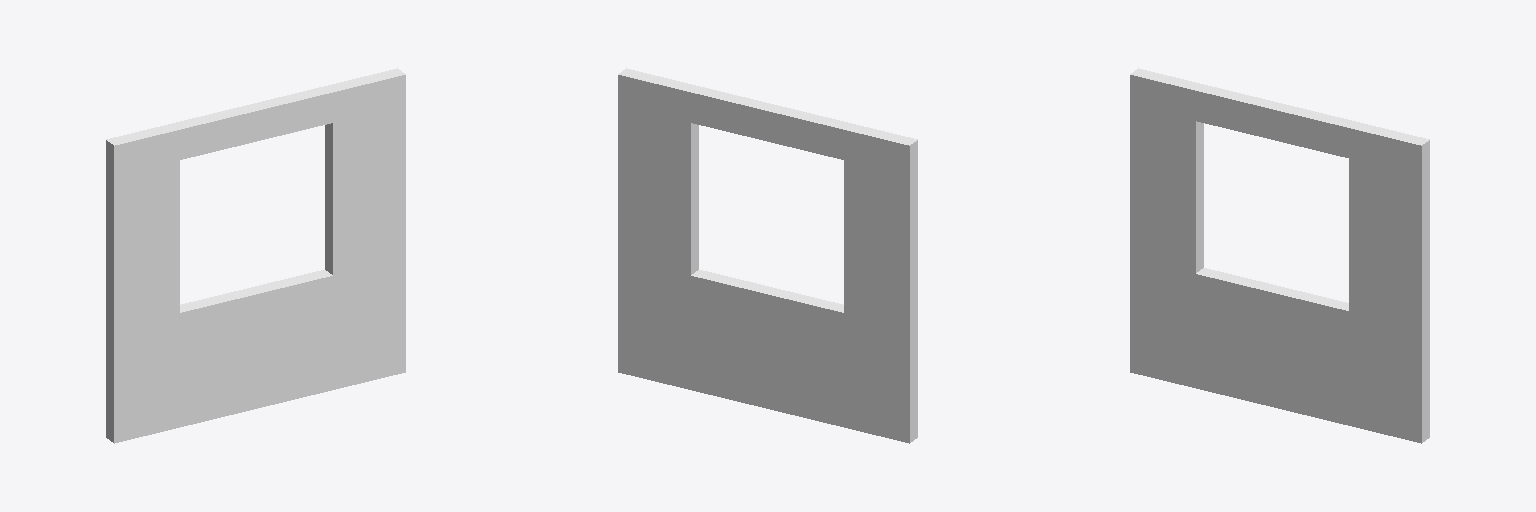
Rendered from ConstructionMaterials-6.obj.
3 renders of one model, left to right at view 1: azimuth 30°, elevation 25°; view 2: azimuth 150°, elevation 25°; view 3: azimuth 330°, elevation 25°, orthographic.
Visible parts, largest first — view 1: object 1; view 2: object 1; view 3: object 1.
Boxes of the visible parts, box(x1,y1,x2,y2) form: object 1: box(106, 68, 405, 443); object 1: box(618, 68, 917, 443); object 1: box(1130, 68, 1429, 443).
Size of the model in its own units: 4 by 3.9 by 0.2.